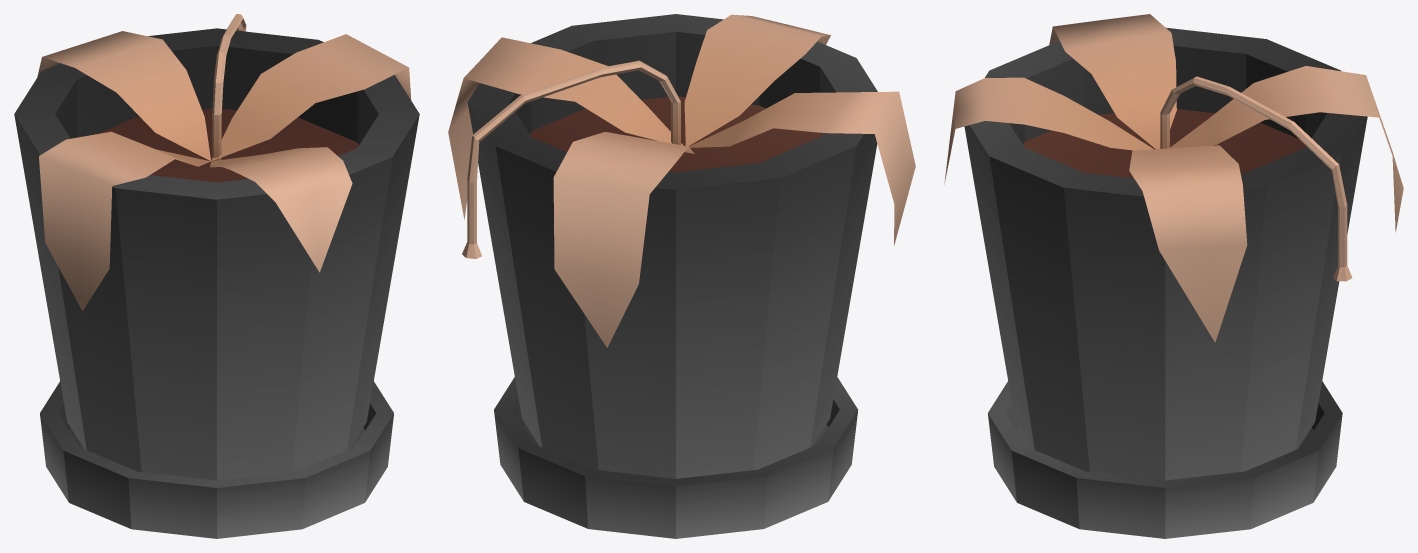
File: plant_deadPlant.fbx
The picture shows the model from 3 angles, left to right: view 1: azimuth 30°, elevation 25°; view 2: azimuth 150°, elevation 25°; view 3: azimuth 270°, elevation 25°; orthographic projection. The views are drawn at different scales.
Visible parts, largest first — view 1: pot, leaves, plate, stem; view 2: pot, leaves, plate, stem; view 3: pot, leaves, plate, stem.
Part boxes in pixels (x1,y1,x2,y2): pot: (14, 28, 419, 480); leaves: (37, 31, 411, 310); plate: (40, 381, 393, 538); stem: (212, 14, 246, 161); pot: (467, 14, 877, 478); leaves: (448, 14, 915, 347); plate: (494, 377, 857, 538); stem: (462, 60, 680, 258); pot: (964, 27, 1367, 480); leaves: (944, 14, 1403, 342); plate: (988, 381, 1342, 538); stem: (1160, 76, 1352, 281).
Size of the model in its own units: 18.38 by 18.22 by 19.02.
